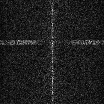wifi: (1, 39, 104, 45)
